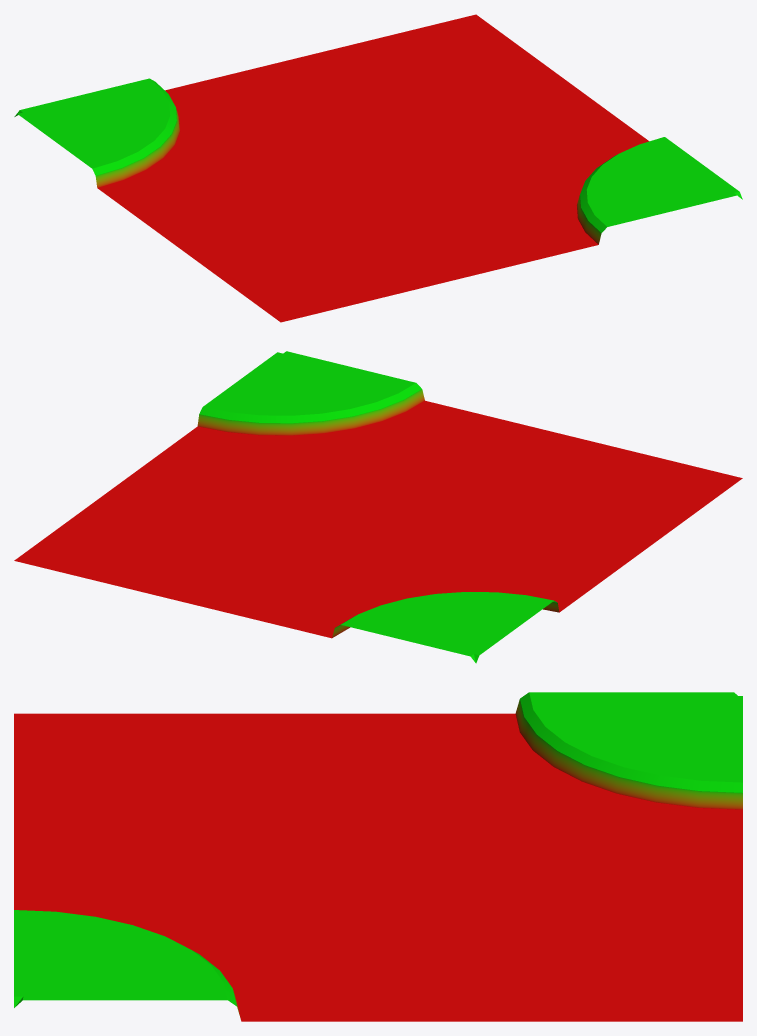
Rendered from WideRoadA_DoubleCorner.fbx.
The picture shows the model from 3 angles, top to bottom: view 1: azimuth 30°, elevation 25°; view 2: azimuth 150°, elevation 25°; view 3: azimuth 270°, elevation 25°; orthographic projection. The views are drawn at different scales.
Visible parts, largest first — view 1: WideRoadA_DoubleCorner; view 2: WideRoadA_DoubleCorner; view 3: WideRoadA_DoubleCorner.
Part boxes in pixels (box(x1,y1,x2,y2)): WideRoadA_DoubleCorner: box(14, 14, 742, 322); WideRoadA_DoubleCorner: box(14, 351, 742, 663); WideRoadA_DoubleCorner: box(14, 692, 742, 1021).
Size of the model in its own units: 2 by 2 by 0.065.
